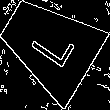L_NW: (22, 18, 76, 71)
